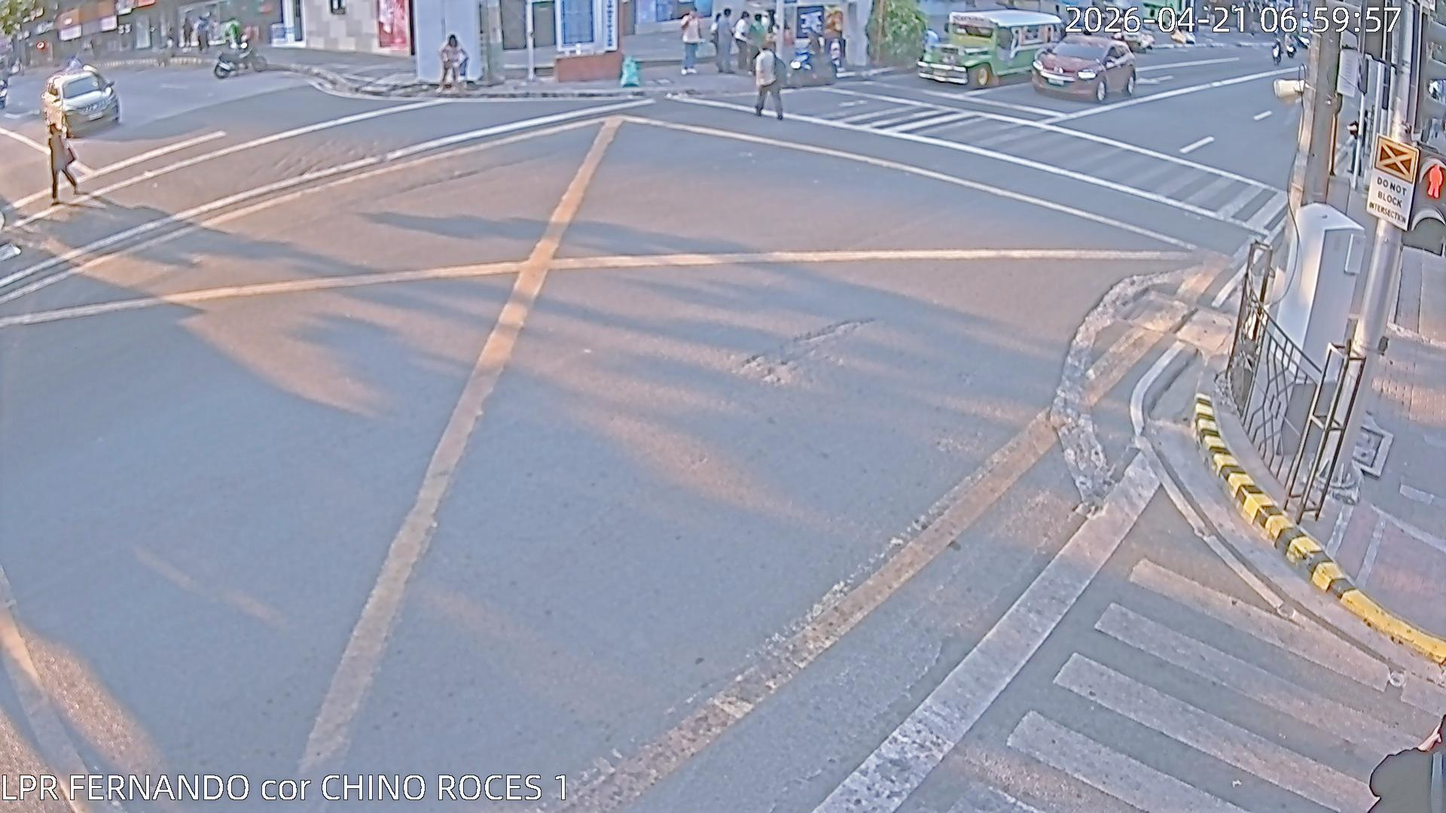Car: (1030, 35, 1136, 102), (41, 68, 118, 139)
Motor: (211, 39, 267, 78), (1272, 44, 1283, 65), (1286, 44, 1296, 60)
